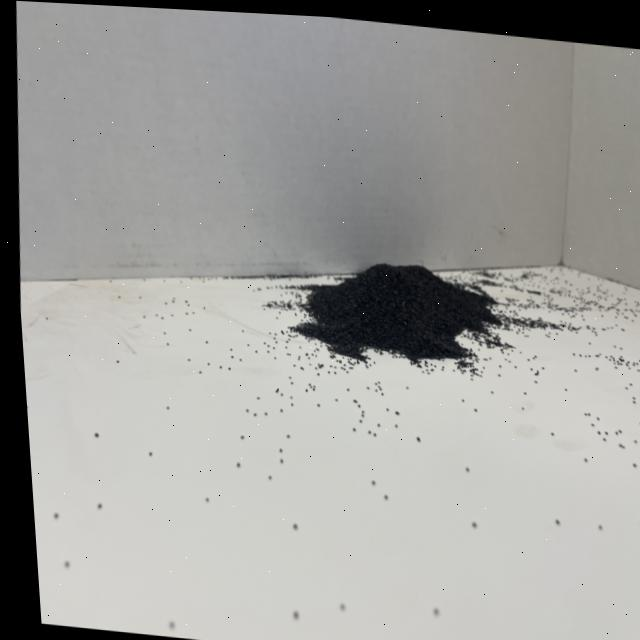Poppy Seeds: (278, 219, 525, 402)
